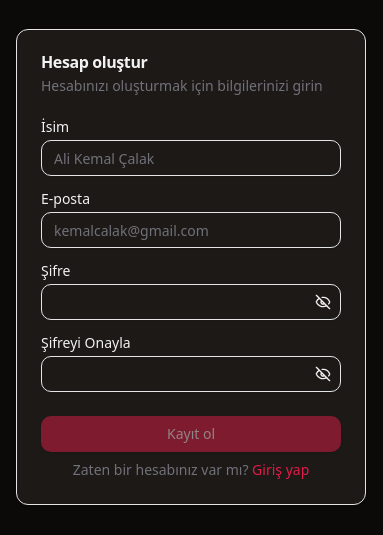
Test: RegisterPage › validates all form fields
Expected: the button "Kayıt ol" is disabled, top-left (41, 416), bottom-right (341, 452)
Add valid name
Type "Test User" into the field labelled "İsim" at x=191, y=158, box top-left (41, 140), bottom-right (341, 176)
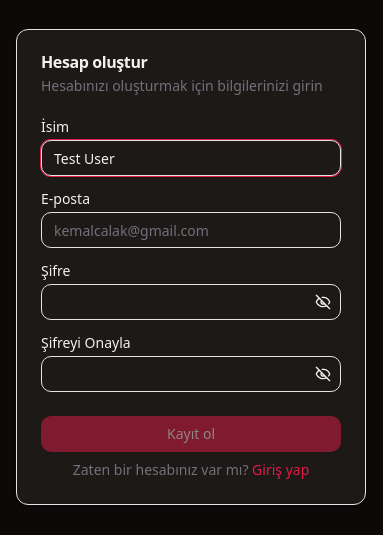
Add invalid email then valid email
Type "invalid-email" into the field labelled "E-posta" at x=191, y=230, box top-left (41, 212), bottom-right (341, 248)
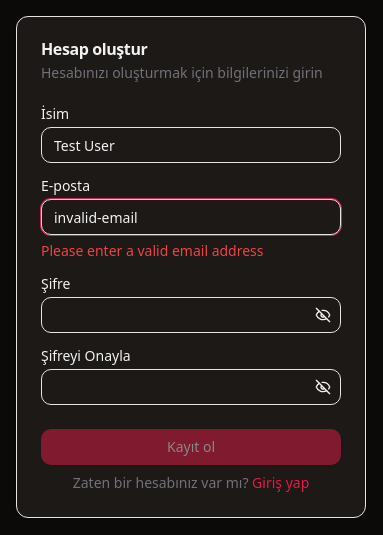
Result: the text "Please enter a valid email address" is shown at top-left (41, 241), bottom-right (264, 260)
Replace the text in the field labelled "E-posta" with "valid@example.com" at x=191, y=217, box top-left (41, 199), bottom-right (341, 235)
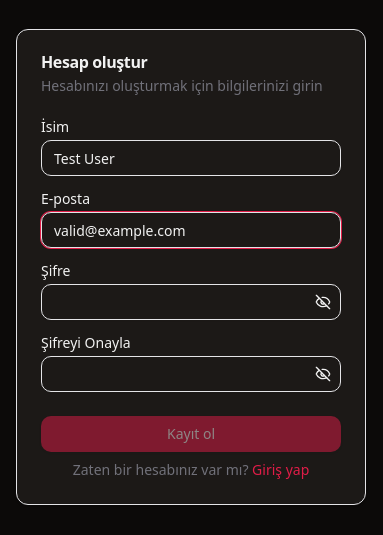
Add password
Type "password123" into the password field labelled "Şifre" at x=191, y=302, box top-left (41, 284), bottom-right (341, 320)
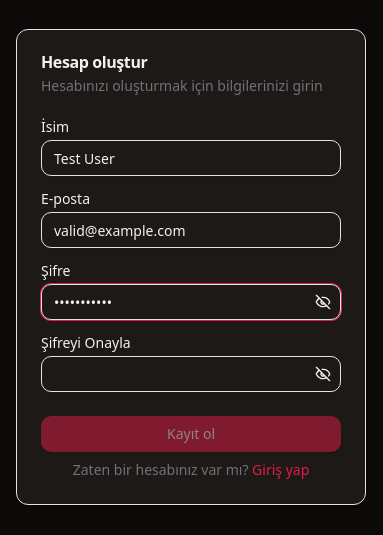
Add non-matching confirmation password
Type "different" into the password field labelled "Şifreyi Onayla" at x=191, y=374, box top-left (41, 356), bottom-right (341, 392)
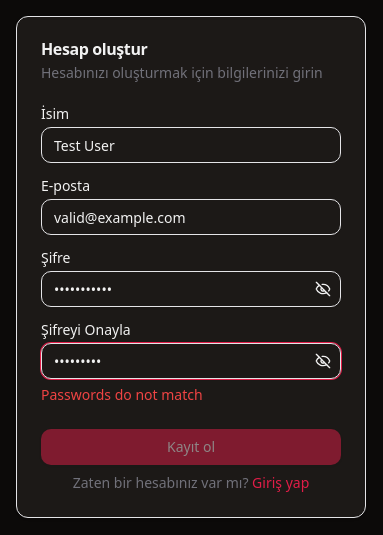
Expected: the button "Kayıt ol" is disabled, top-left (41, 429), bottom-right (341, 465)
Result: the text "Passwords do not match" is shown at top-left (41, 385), bottom-right (203, 404)
Fix confirmation password
Type "password123" into the password field labelled "Şifreyi Onayla" at x=191, y=361, box top-left (41, 343), bottom-right (341, 379)
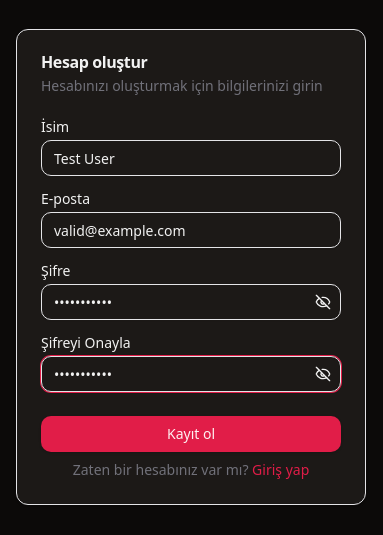
Result: the button "Kayıt ol" is enabled at top-left (41, 416), bottom-right (341, 452)
